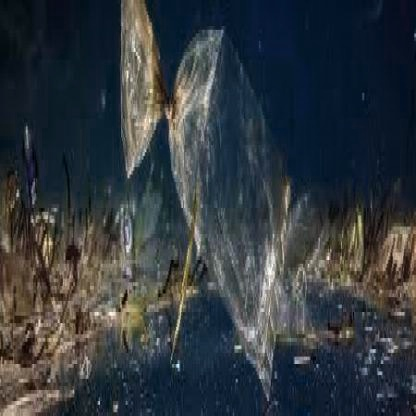pbag: (120, 4, 292, 405)
